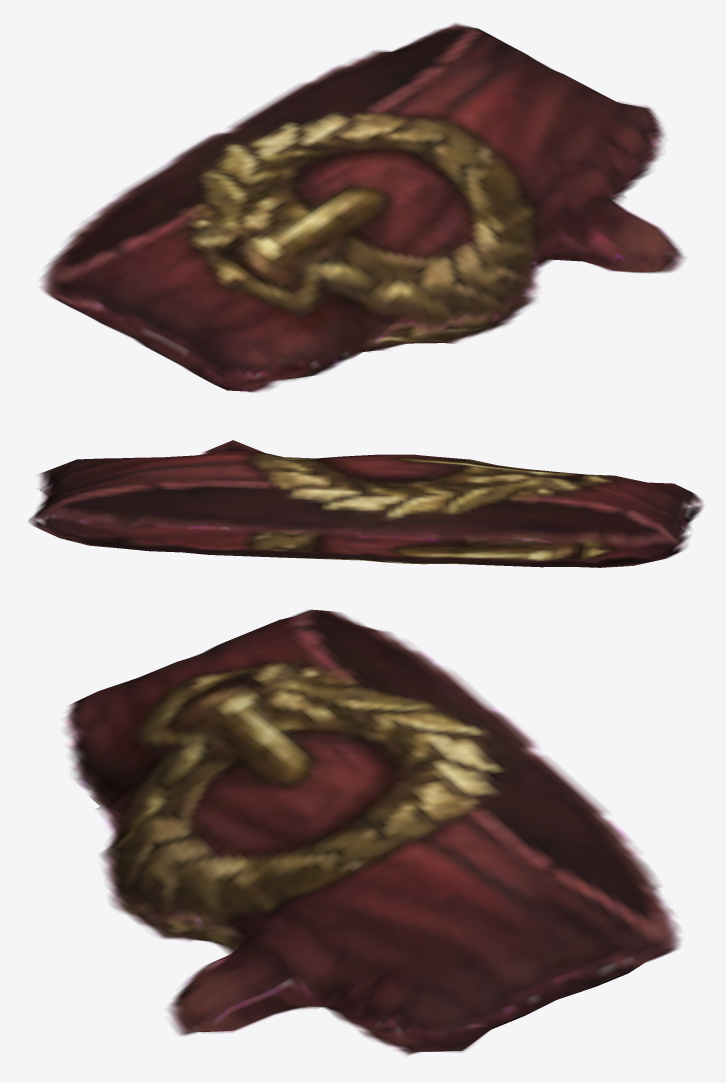
The model's file is drop_sash.glb.
3 views of the same model, one above another, from view 1: azimuth 30°, elevation 25°; view 2: azimuth 150°, elevation 25°; view 3: azimuth 270°, elevation 25° (orthographic). The views are drawn at different scales.
Parts seen in each view (by area): view 1: drop_sash; view 2: drop_sash; view 3: drop_sash.
Boxes of the visible parts, <box> form: drop_sash: <box>40,23,684,392</box>; drop_sash: <box>28,440,703,567</box>; drop_sash: <box>63,609,680,1055</box>.
Bounding box in the file's own units: 0.5156 × 0.0796 × 0.3714.
1 material, 1 textured.
